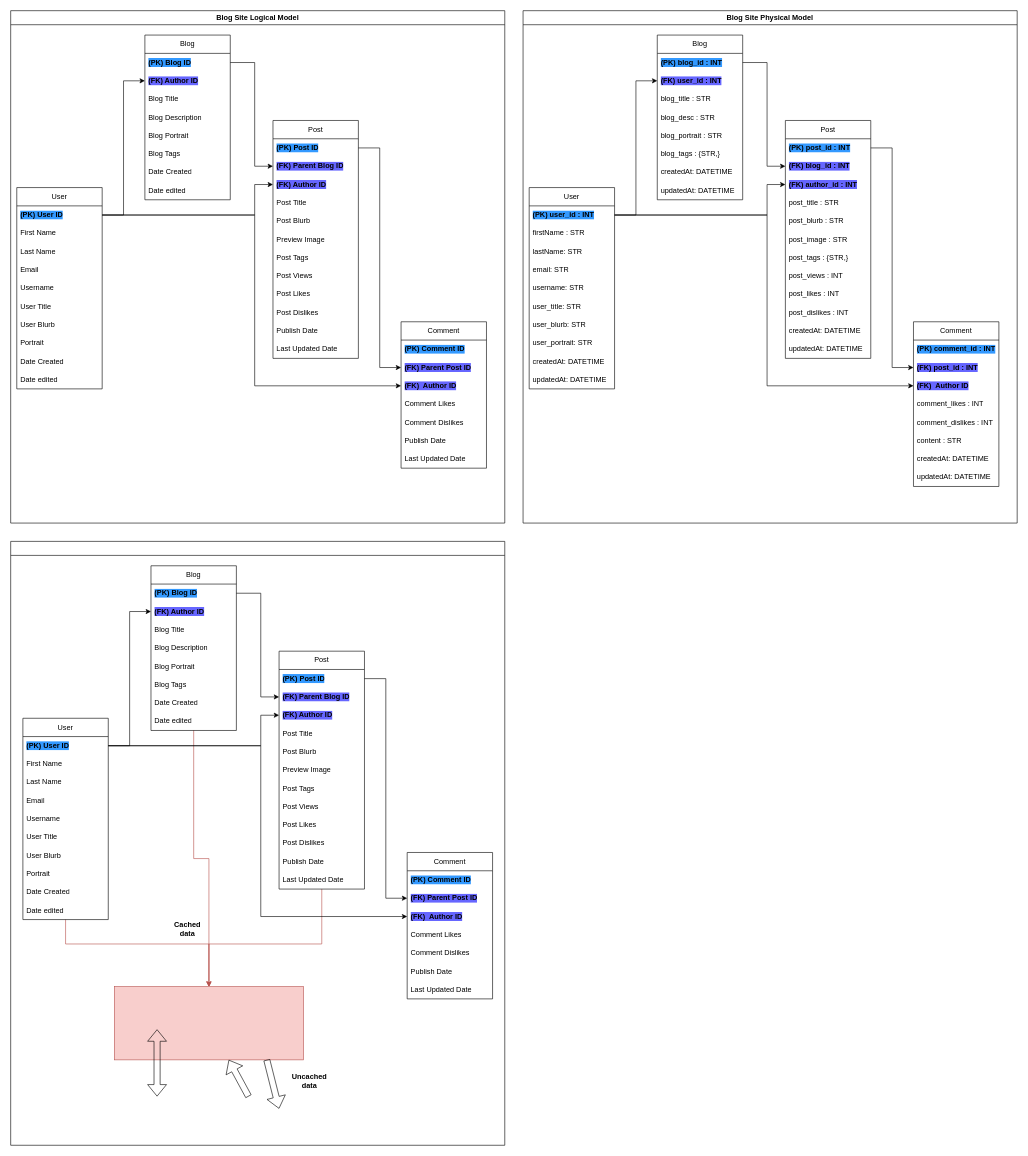
Some shapes in this 1028 by 1156 pixel diagram are drawn without their labels. The shapes that lost their labels are listed below. From the top down, each one's box as (x1, y1, x2, y2) in pixels, then its label:
(10, 541, 505, 1145): Blog Site Logical Model with redis
(114, 986, 303, 1060): redis
